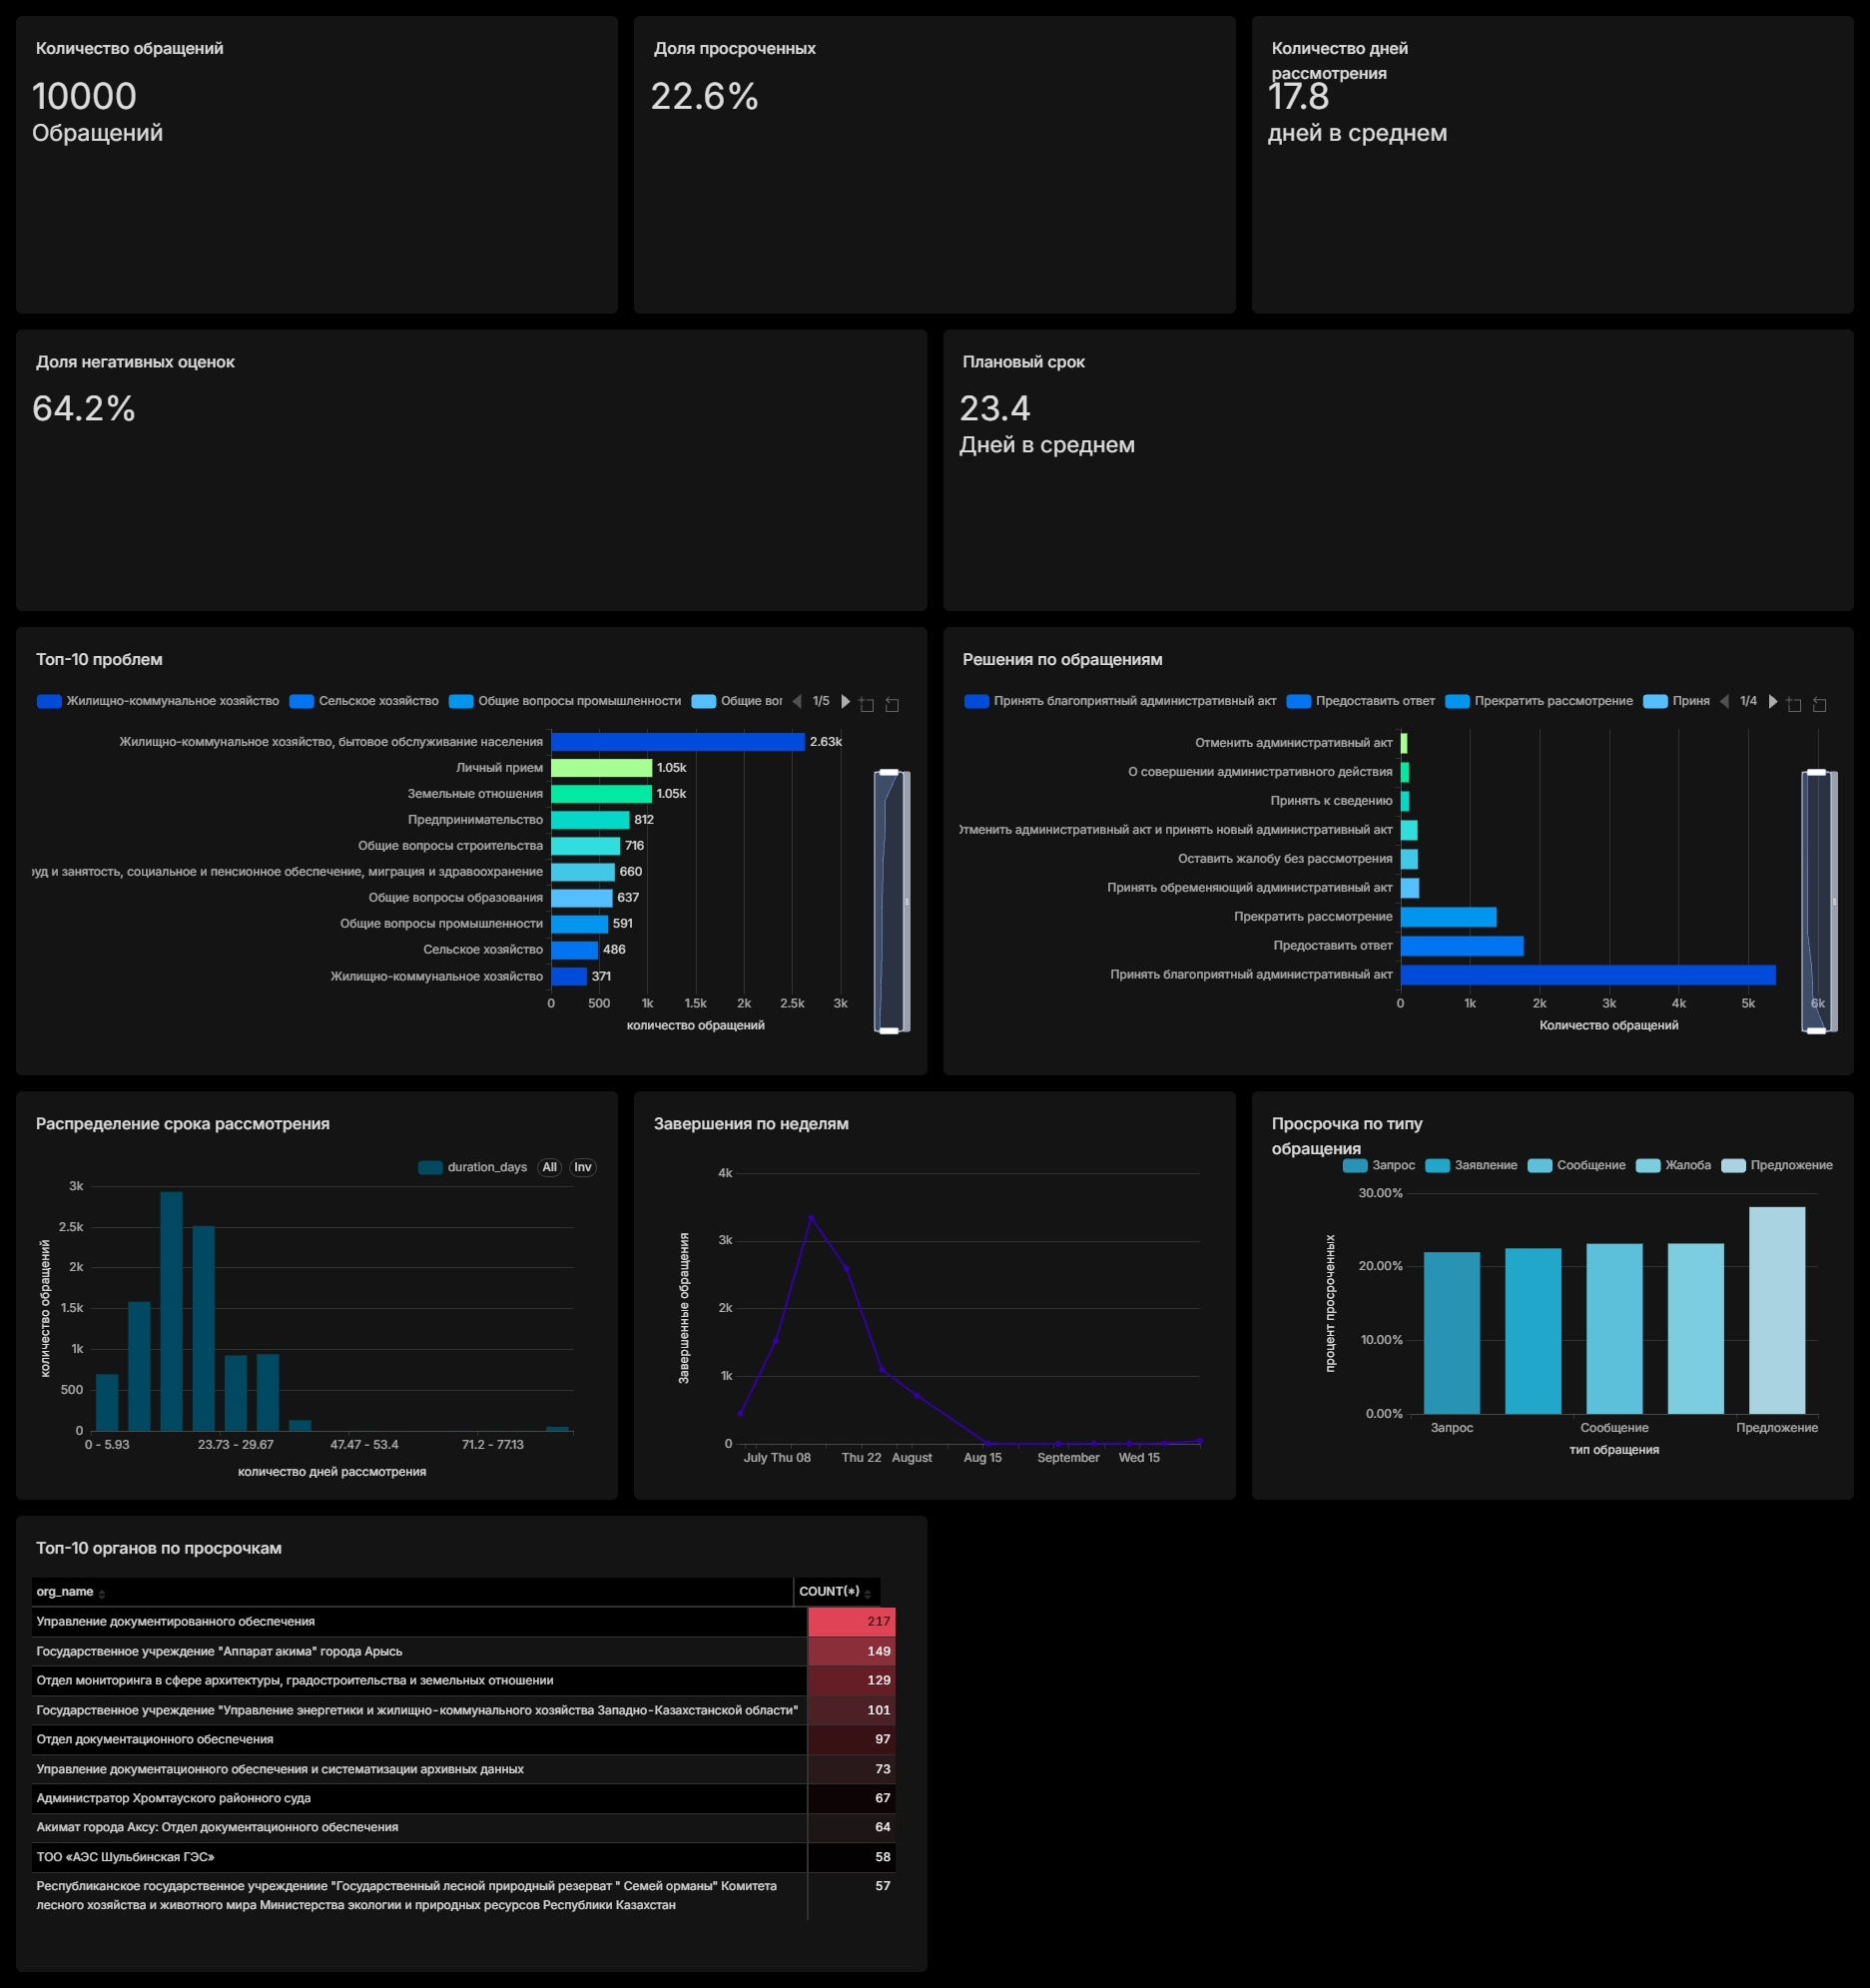

Layout of this report page (visuals, bound fields, positions):
{"tool":"powerbi","page":{"name":"Обращения 1","canvas":[1920,1080],"ordinal":0},"visuals":[{"type":"cardVisual","title":"Всего обращений","fields":{"Data":["e_obr_synthetic_data.Всего обращений"]},"box":[52.5,37.9,302,137.1],"z":0},{"type":"cardVisual","title":"Доля просрочки","fields":{"Data":["e_obr_synthetic_data.Доля Просрочки"]},"box":[398.3,37.9,302,137.1],"z":1000},{"type":"cardVisual","title":"Средний срок рассмотрения","fields":{"Data":["e_obr_synthetic_data.Средний Срок Рассмотрения"]},"box":[752.8,37.9,302,137.1],"z":2000},{"type":"cardVisual","title":"Средний плановый срок","fields":{"Data":["e_obr_synthetic_data.Средний Плановый Срок"]},"box":[1091.3,37.9,302,137.1],"z":3000},{"type":"cardVisual","title":"Оценки","fields":{"Data":["e_obr_synthetic_data.Негативные Оценки","e_obr_synthetic_data.Процент Оценок"]},"box":[1428.3,37.9,462.5,137.1],"z":4000},{"type":"clusteredBarChart","title":"Топ-10 тем по количеству обращений","fields":{"Category":["e_obr_synthetic_data.issue"],"Y":["e_obr_synthetic_data.Всего обращений"]},"box":[52.5,245.1,907.5,411.4],"z":5000},{"type":"clusteredColumnChart","title":"Доля просрочки по типу заявления","fields":{"Category":["e_obr_synthetic_data.appeal_type"],"Y":["e_obr_synthetic_data.Доля Просрочки"]},"box":[960,245.1,960,411.4],"z":6000},{"type":"clusteredColumnChart","title":"Срок рассмотрения","fields":{"Category":["e_obr_synthetic_data.Дни Рассмотрения (ячейки)"],"Y":["e_obr_synthetic_data.Всего обращений"]},"box":[52.5,656.5,907.5,423.1],"z":7000},{"type":"clusteredBarChart","title":"Решения по обращениям","fields":{"Category":["e_obr_synthetic_data.appeal_decision"],"Y":["e_obr_synthetic_data.Всего обращений"]},"box":[960,657,960,423],"z":8000}]}

Visuals, with their boxes on the page's 1920x1080 design canvas (x1, y1, x2, y2). These are canvas units, not pixel positions in the 1870x1988 screenshot, which may show the page scaled, cropped or inside an application window:
"Всего обращений" cardVisual: crop(52, 38, 354, 175)
"Доля просрочки" cardVisual: crop(398, 38, 700, 175)
"Средний срок рассмотрения" cardVisual: crop(753, 38, 1055, 175)
"Средний плановый срок" cardVisual: crop(1091, 38, 1393, 175)
"Оценки" cardVisual: crop(1428, 38, 1891, 175)
"Топ-10 тем по количеству обращений" clusteredBarChart: crop(52, 245, 960, 656)
"Доля просрочки по типу заявления" clusteredColumnChart: crop(960, 245, 1920, 656)
"Срок рассмотрения" clusteredColumnChart: crop(52, 656, 960, 1080)
"Решения по обращениям" clusteredBarChart: crop(960, 657, 1920, 1080)
